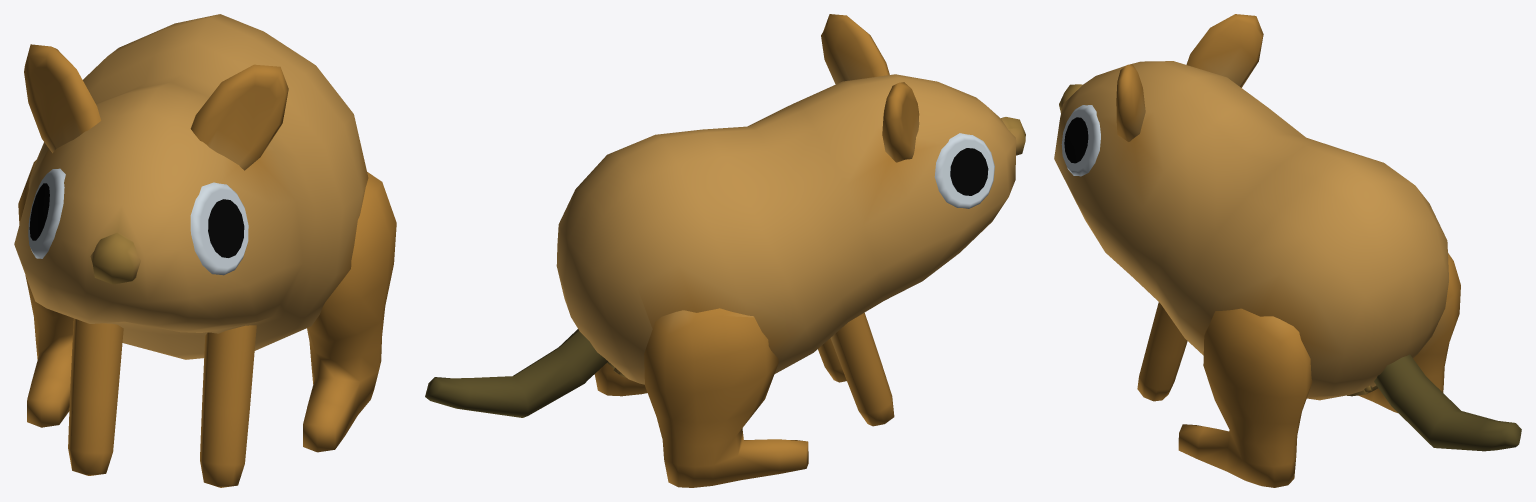
File: Quokka.glb
The picture shows the model from 3 angles, left to right: view 1: azimuth 30°, elevation 25°; view 2: azimuth 150°, elevation 25°; view 3: azimuth 270°, elevation 25°; orthographic projection. The views are drawn at different scales.
Visible parts, largest first — view 1: 134; view 2: 134; view 3: 134.
Part boxes in pixels (<box>): 134: <box>14,14,396,487</box>; 134: <box>425,14,1025,487</box>; 134: <box>1054,14,1521,487</box>.
Size of the model in its own units: 0.7652 by 0.6722 by 0.8302.
